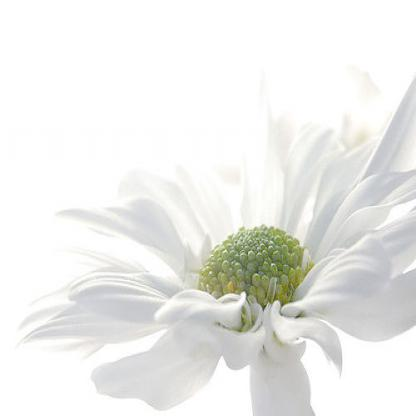ASTER: (15, 66, 401, 397)
